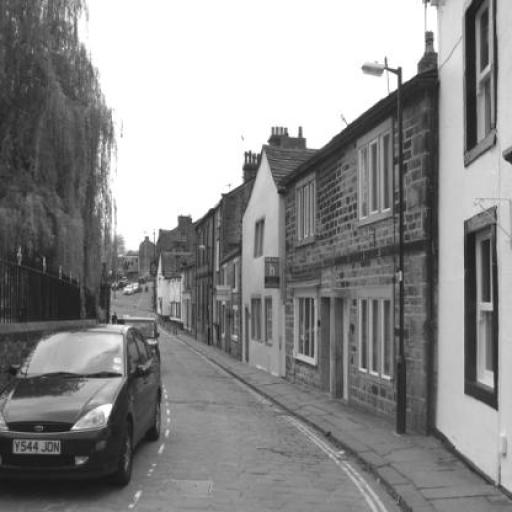street light: (361, 60, 405, 432), (199, 244, 212, 344), (143, 230, 156, 310)
